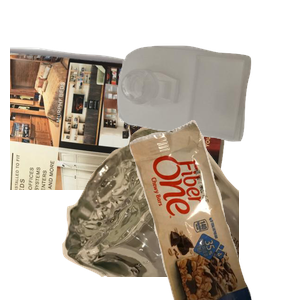glass: (60, 120, 300, 300)
paper: (10, 44, 232, 224)
plastic: (115, 43, 300, 177)
trash: (127, 120, 300, 300)
